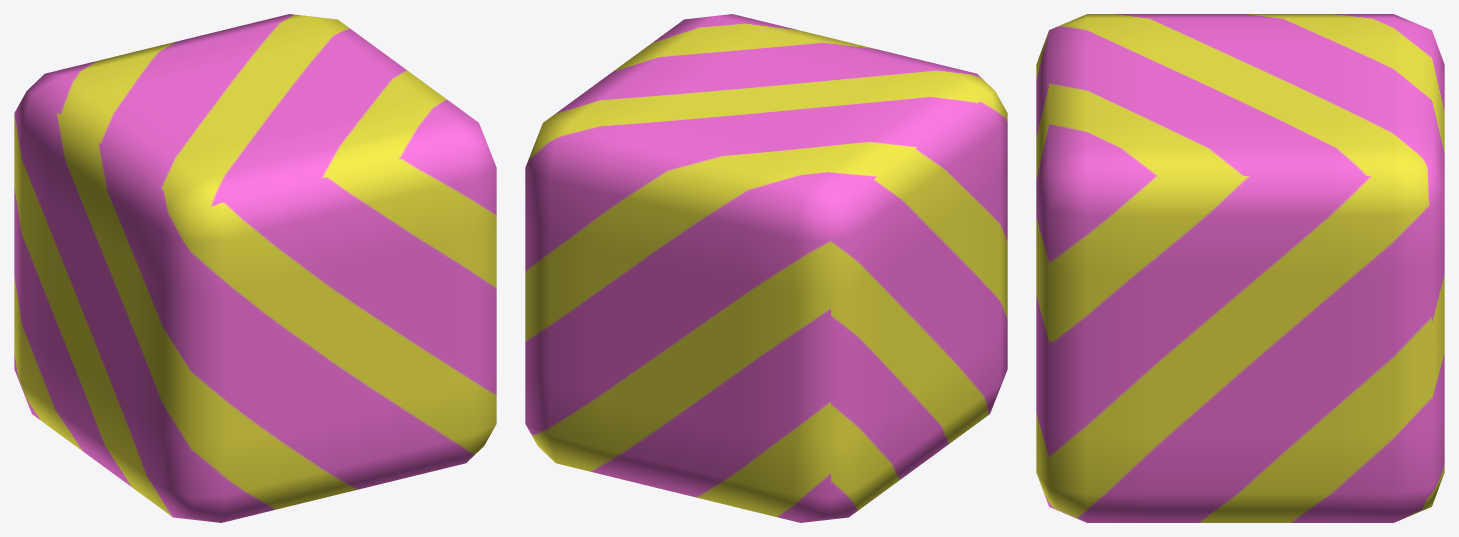
Rendered from block_simasima.fbx.
The picture shows the model from 3 angles, left to right: view 1: azimuth 30°, elevation 25°; view 2: azimuth 150°, elevation 25°; view 3: azimuth 270°, elevation 25°; orthographic projection. The views are drawn at different scales.
Visible parts, largest first — view 1: pCube1; view 2: pCube1; view 3: pCube1.
Boxes of the visible parts, x1,y1,x2,y2 form: pCube1: [14, 14, 496, 522]; pCube1: [525, 14, 1007, 522]; pCube1: [1036, 14, 1444, 522].
Size of the model in its own units: 2.06 by 2.06 by 2.06.
Materials: 1 (1 with a texture image).
